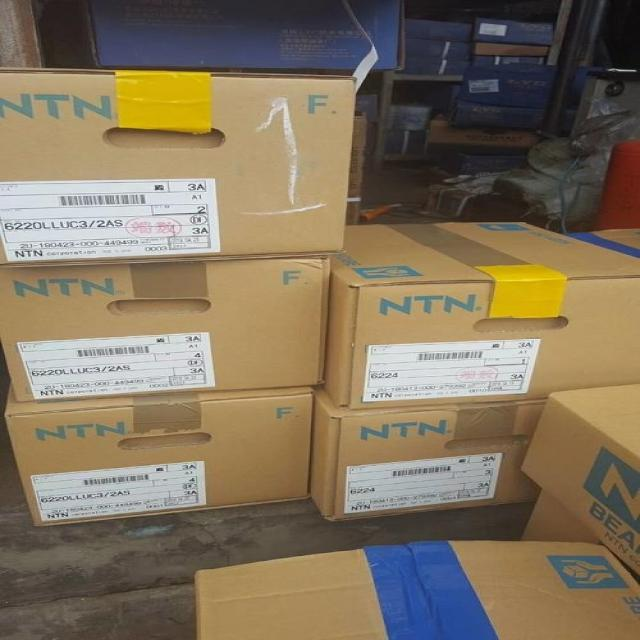box: (0, 67, 358, 267), (323, 222, 639, 409), (0, 255, 332, 402), (4, 381, 314, 526), (195, 540, 638, 639), (309, 385, 548, 521), (520, 384, 639, 583), (85, 0, 404, 71), (561, 228, 639, 258)
